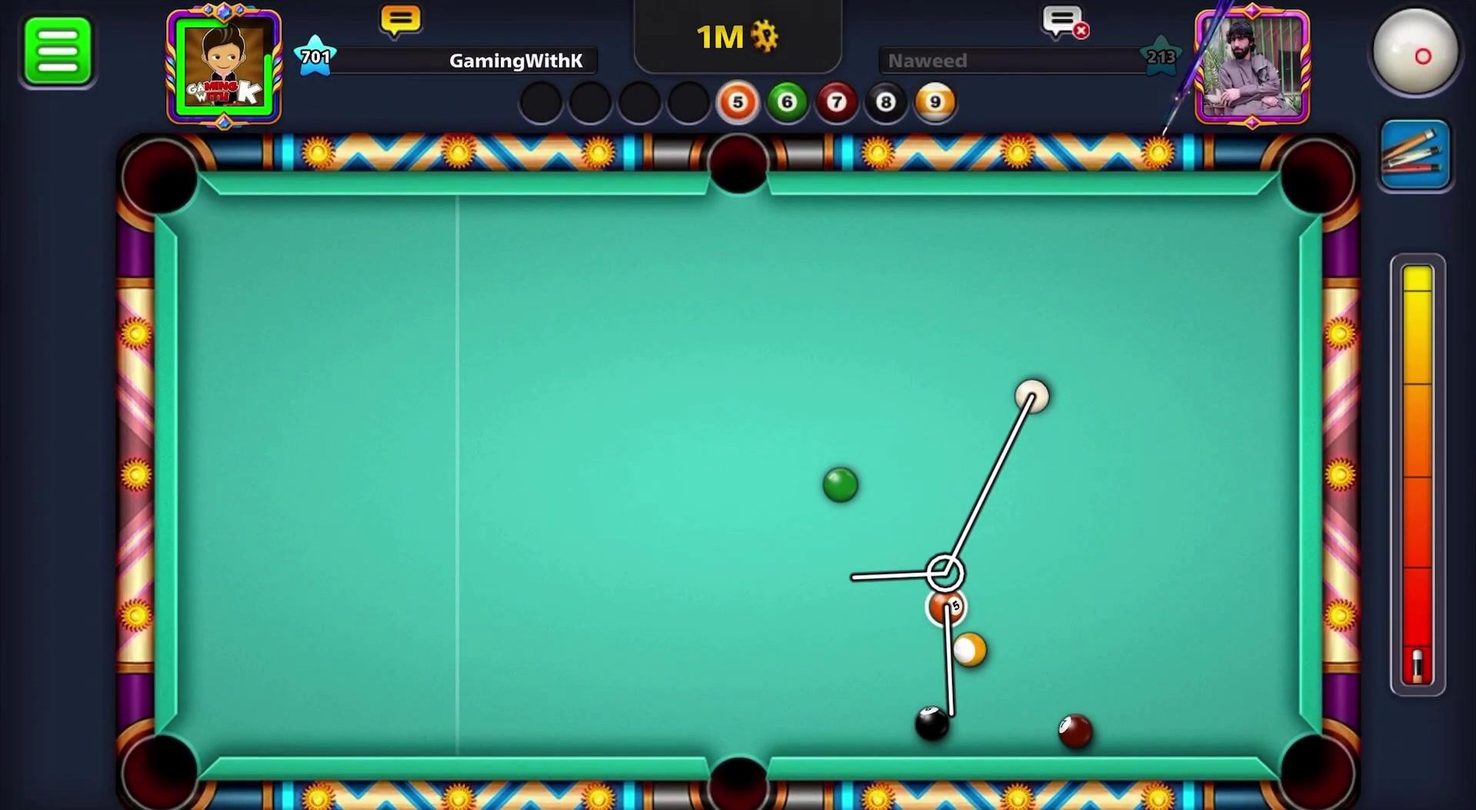Ball: (817, 460, 865, 510), (908, 700, 956, 745), (928, 585, 968, 631), (951, 627, 991, 673), (1055, 711, 1098, 752)
Force: (1387, 251, 1451, 699)
Guideline: (848, 394, 1038, 720)
Hole: (108, 128, 214, 231), (1268, 129, 1366, 231), (110, 717, 213, 809), (1263, 719, 1365, 809), (686, 741, 786, 809), (703, 126, 775, 204)
Play_Area: (177, 194, 1298, 759)
Spin: (1348, 0, 1475, 112)
White: (1008, 369, 1056, 420)
